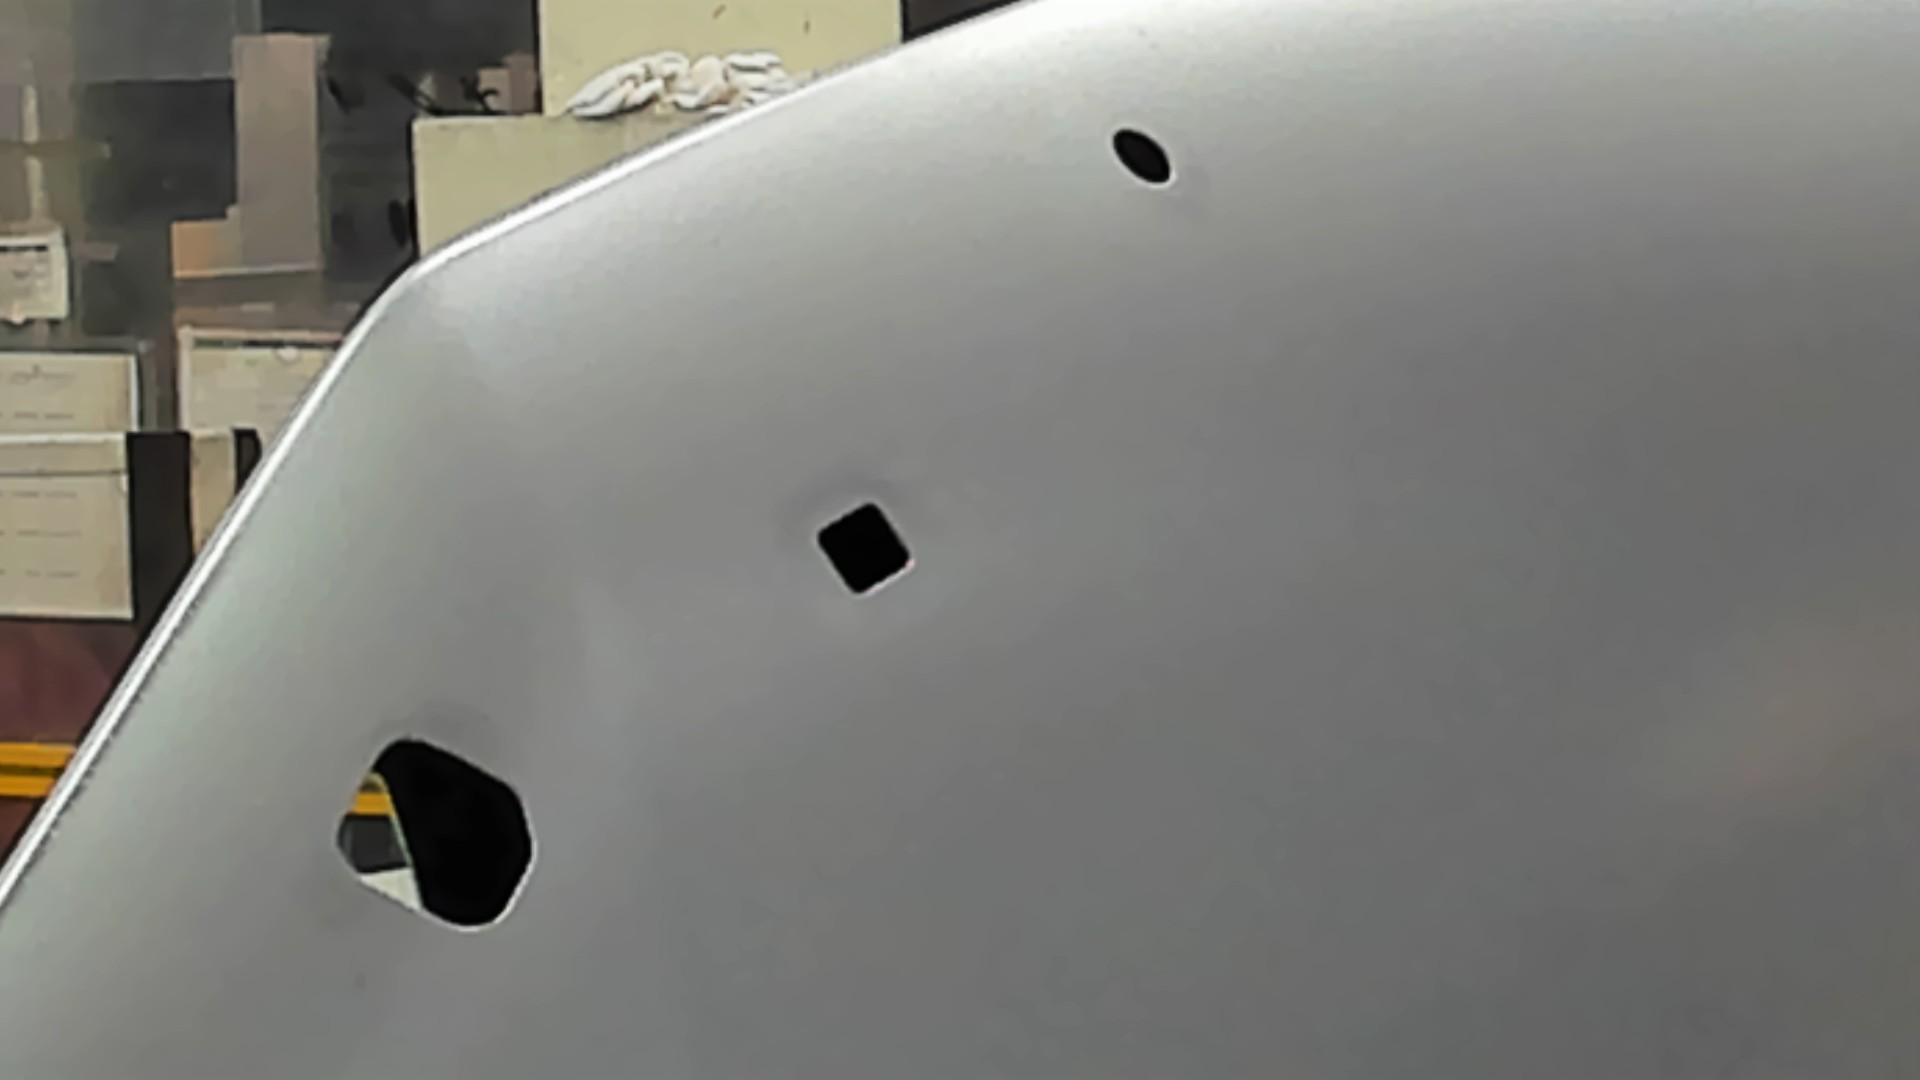capo: (919, 193, 1920, 1080)
chico: (1105, 123, 1174, 190)
grande: (324, 729, 545, 942)
mediano: (806, 496, 919, 604)
